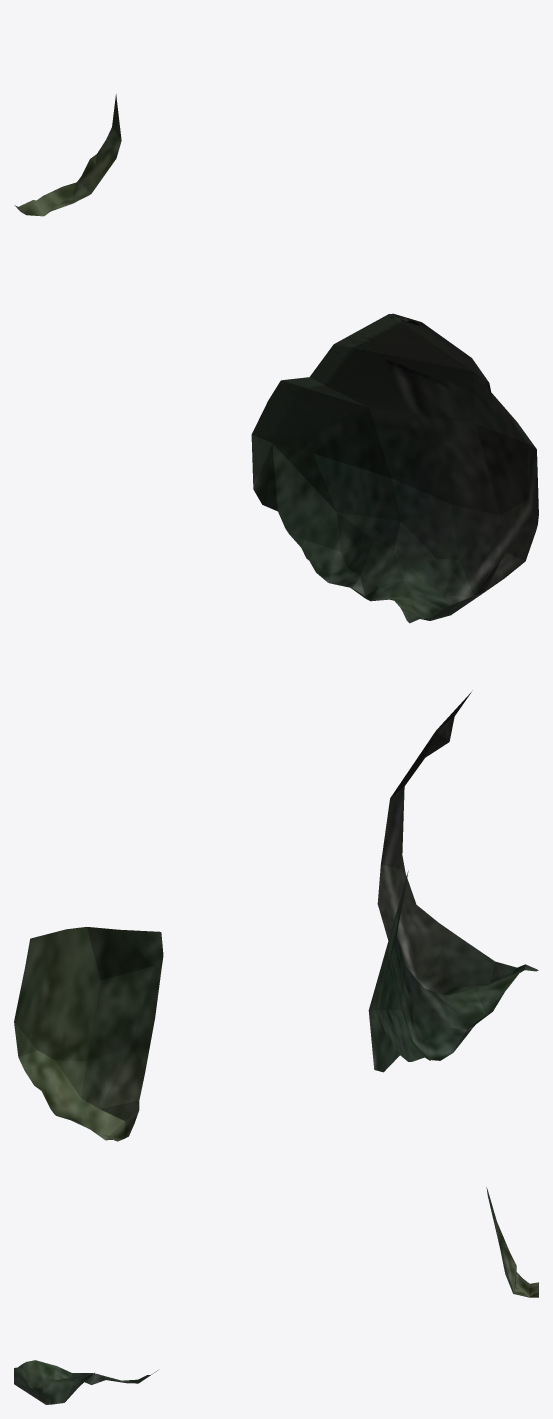
3 views of the same model, one above another, from view 1: azimuth 30°, elevation 25°; view 2: azimuth 150°, elevation 25°; view 3: azimuth 270°, elevation 25° (orthographic). The views are drawn at different scales.
Size of the model in its own units: 1.15 by 2.63 by 5.9.
Materials: 1 (1 with a texture image).
